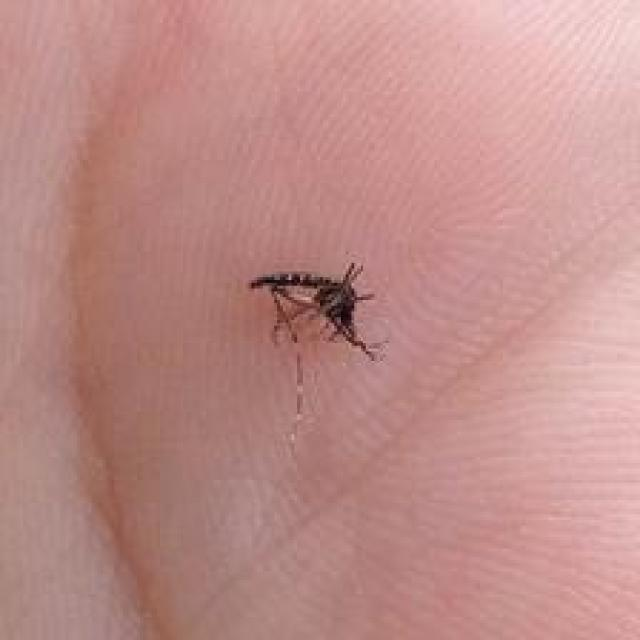Aedes albopictus: (247, 258, 387, 453)
